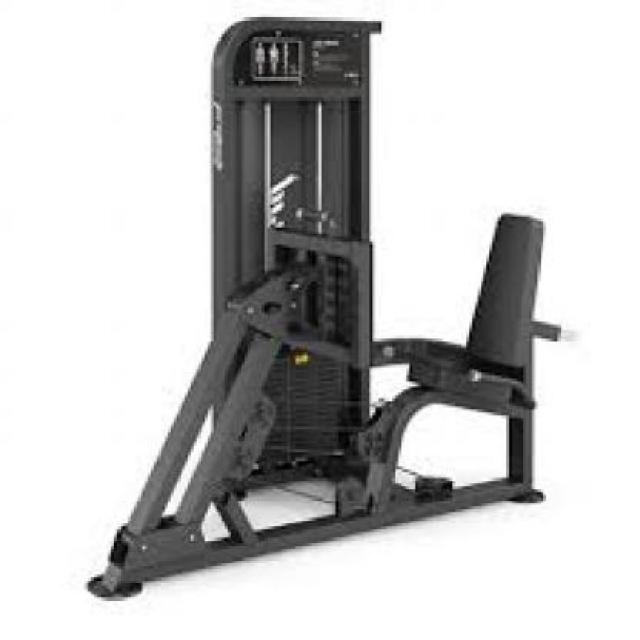leg press: (46, 17, 585, 609)
